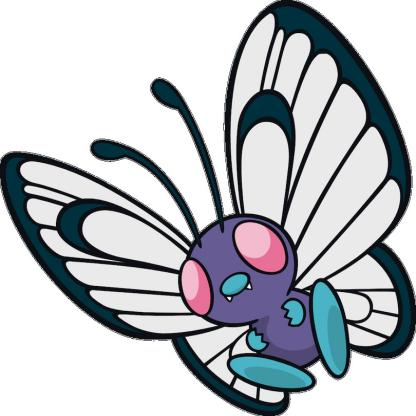Butterfree: (11, 11, 415, 412)
